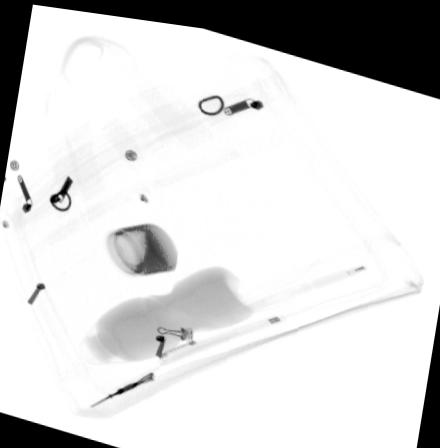Scissors: (90, 342, 187, 404)
